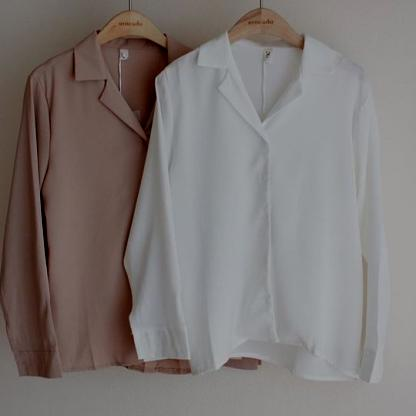dress: (129, 31, 392, 387), (7, 30, 156, 374)
